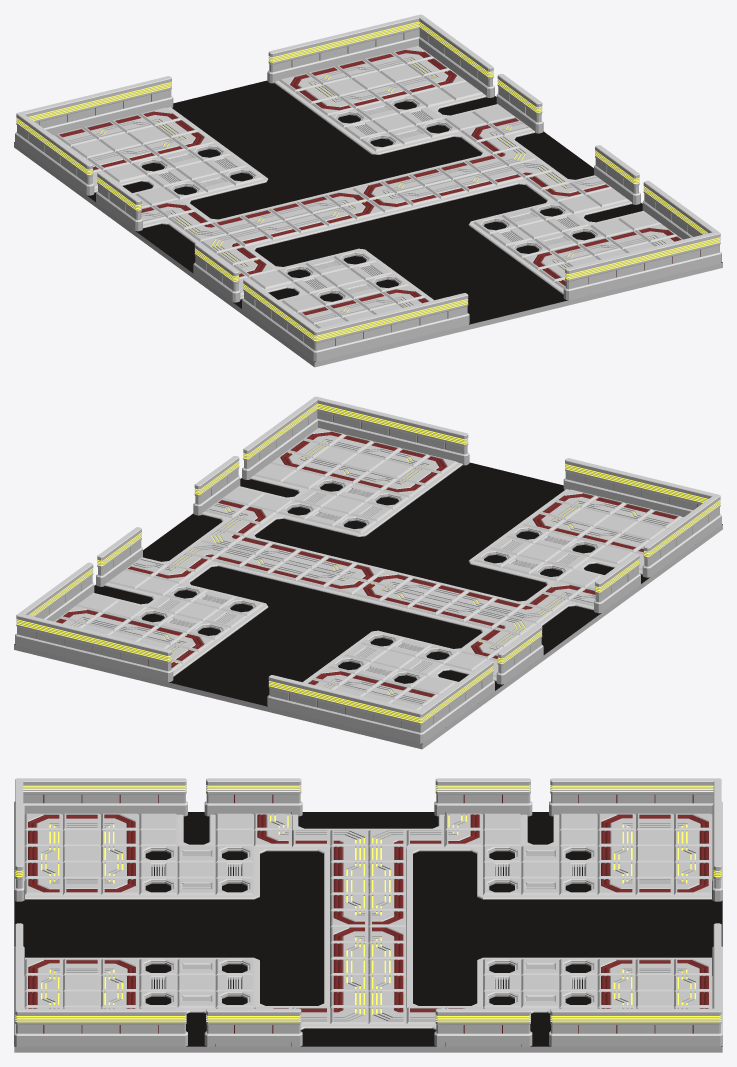
The model's file is floor_tiles 1.glb.
The picture shows the model from 3 angles, top to bottom: view 1: azimuth 30°, elevation 25°; view 2: azimuth 150°, elevation 25°; view 3: azimuth 270°, elevation 25°; orthographic projection. The views are drawn at different scales.
Parts seen in each view (by area): view 1: Mesh34_M_0136_Charcoal_0, Mesh304_M_0136_Charcoal_0, Mesh124_M_0136_Charcoal_0, Mesh214_M_0136_Charcoal_0, Mesh214_FrontColor_0, Mesh34_FrontColor_0, Mesh64_M_0131_Silver_0, Mesh242_M_0131_Silver_0, Mesh69_M_0131_Silver_0, Mesh62_M_0131_Silver_0, Mesh60_M_0131_Silver_0, Mesh66_M_0131_Silver_0 (+23 smaller); view 2: Mesh304_M_0136_Charcoal_0, Mesh34_M_0136_Charcoal_0, Mesh214_M_0136_Charcoal_0, Mesh124_M_0136_Charcoal_0, Mesh124_FrontColor_0, Mesh304_FrontColor_0, Mesh334_M_0131_Silver_0, Mesh152_M_0131_Silver_0, Mesh339_M_0131_Silver_0, Mesh332_M_0131_Silver_0, Mesh330_M_0131_Silver_0, Mesh156_M_0131_Silver_0 (+23 smaller); view 3: Mesh124_M_0136_Charcoal_0, Mesh214_M_0136_Charcoal_0, Mesh34_M_0136_Charcoal_0, Mesh304_M_0136_Charcoal_0, Mesh34_FrontColor_0, Mesh304_FrontColor_0, Mesh74_M_0131_Silver_0, Mesh84_M_0131_Silver_0, Mesh86_M_0131_Silver_0, Mesh90_M_0131_Silver_0, Mesh344_M_0131_Silver_0, Mesh354_M_0131_Silver_0 (+142 smaller).
Part boxes in pixels (box(x1,y1,x2,y2)): Mesh34_M_0136_Charcoal_0: box(388, 152, 722, 312); Mesh304_M_0136_Charcoal_0: box(218, 80, 571, 187); Mesh124_M_0136_Charcoal_0: box(14, 92, 347, 252); Mesh214_M_0136_Charcoal_0: box(165, 216, 518, 362); Mesh214_FrontColor_0: box(164, 252, 518, 367); Mesh34_FrontColor_0: box(518, 263, 722, 317); Mesh64_M_0131_Silver_0: box(685, 233, 715, 271); Mesh242_M_0131_Silver_0: box(376, 309, 406, 346); Mesh69_M_0131_Silver_0: box(657, 240, 687, 278); Mesh62_M_0131_Silver_0: box(629, 247, 658, 284); Mesh60_M_0131_Silver_0: box(573, 261, 602, 298); Mesh66_M_0131_Silver_0: box(601, 254, 630, 291); Mesh304_M_0136_Charcoal_0: box(14, 534, 348, 694); Mesh34_M_0136_Charcoal_0: box(165, 462, 518, 569); Mesh214_M_0136_Charcoal_0: box(389, 474, 722, 634); Mesh124_M_0136_Charcoal_0: box(218, 598, 571, 744); Mesh124_FrontColor_0: box(218, 634, 572, 749); Mesh304_FrontColor_0: box(14, 645, 218, 699); Mesh334_M_0131_Silver_0: box(21, 615, 51, 653); Mesh152_M_0131_Silver_0: box(330, 691, 360, 728); Mesh339_M_0131_Silver_0: box(49, 622, 79, 660); Mesh332_M_0131_Silver_0: box(78, 629, 107, 666); Mesh330_M_0131_Silver_0: box(134, 643, 163, 680); Mesh156_M_0131_Silver_0: box(302, 684, 331, 721); Mesh124_M_0136_Charcoal_0: box(368, 812, 722, 929); Mesh214_M_0136_Charcoal_0: box(14, 812, 368, 929); Mesh34_M_0136_Charcoal_0: box(14, 929, 368, 1046); Mesh304_M_0136_Charcoal_0: box(368, 929, 722, 1046); Mesh34_FrontColor_0: box(14, 1046, 368, 1052); Mesh304_FrontColor_0: box(368, 1046, 722, 1052); Mesh74_M_0131_Silver_0: box(101, 1010, 139, 1046); Mesh84_M_0131_Silver_0: box(24, 1010, 62, 1046); Mesh86_M_0131_Silver_0: box(139, 1010, 177, 1046); Mesh90_M_0131_Silver_0: box(253, 1010, 291, 1046); Mesh344_M_0131_Silver_0: box(597, 1010, 635, 1046); Mesh354_M_0131_Silver_0: box(674, 1010, 712, 1046).
Size of the model in its own units: 582 by 47 by 743.
